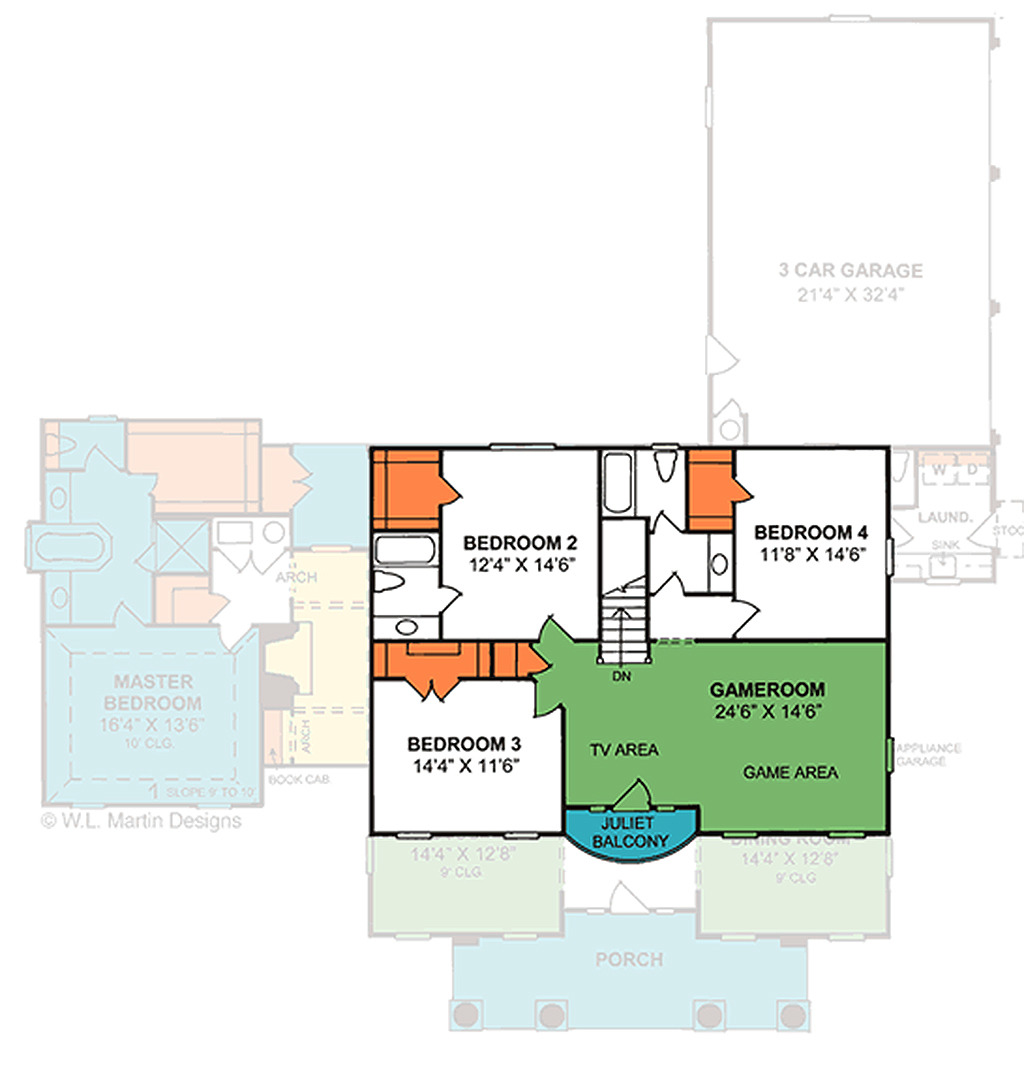door: (703, 327, 750, 388), (213, 544, 292, 579), (279, 448, 319, 514), (598, 877, 655, 917), (397, 673, 464, 707), (605, 771, 660, 812), (528, 608, 577, 651), (429, 468, 472, 516), (205, 625, 255, 658), (965, 512, 1006, 551), (77, 439, 120, 476), (736, 592, 765, 637), (731, 473, 761, 512), (528, 682, 557, 722), (108, 600, 145, 627)
large_sink: (367, 566, 410, 601), (644, 448, 681, 488), (46, 422, 78, 464)
small_sink: (368, 612, 445, 642), (703, 531, 735, 595), (39, 572, 76, 622), (43, 472, 77, 526)
stairs: (595, 512, 660, 681)
tub: (26, 524, 111, 578), (368, 527, 442, 569), (596, 446, 638, 514)
window: (478, 438, 562, 462), (498, 823, 542, 848), (817, 826, 869, 846), (392, 825, 433, 844), (717, 828, 765, 844)
